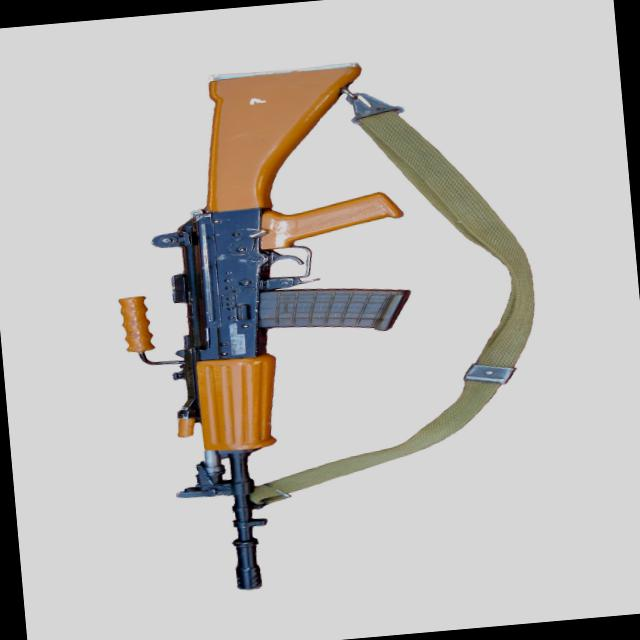long weapon: (73, 46, 494, 600)
